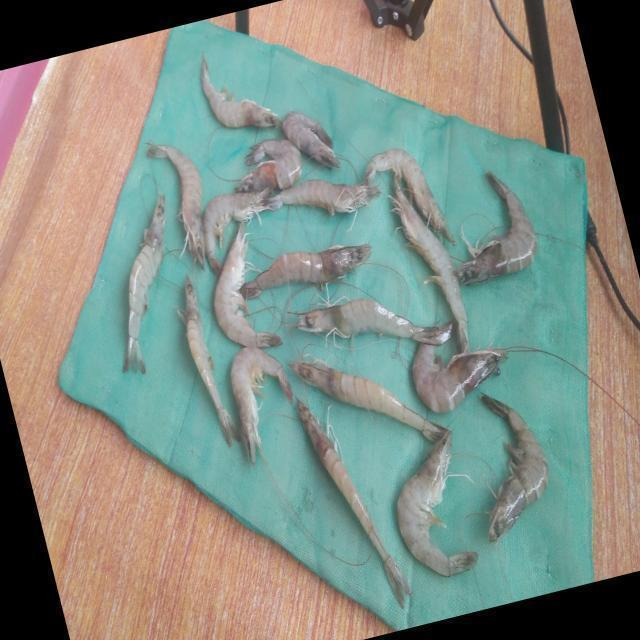shrimp: (296, 397, 412, 607), (390, 175, 469, 351), (289, 360, 447, 441), (397, 429, 478, 576), (481, 393, 548, 542), (184, 274, 239, 446), (455, 170, 537, 283), (363, 146, 456, 243), (412, 319, 507, 412), (213, 220, 281, 347), (121, 193, 164, 372), (239, 243, 371, 300), (230, 346, 292, 465), (146, 142, 204, 267), (294, 297, 441, 344), (202, 185, 272, 274), (200, 51, 281, 126), (260, 178, 380, 213), (234, 137, 301, 191), (282, 109, 340, 166)
